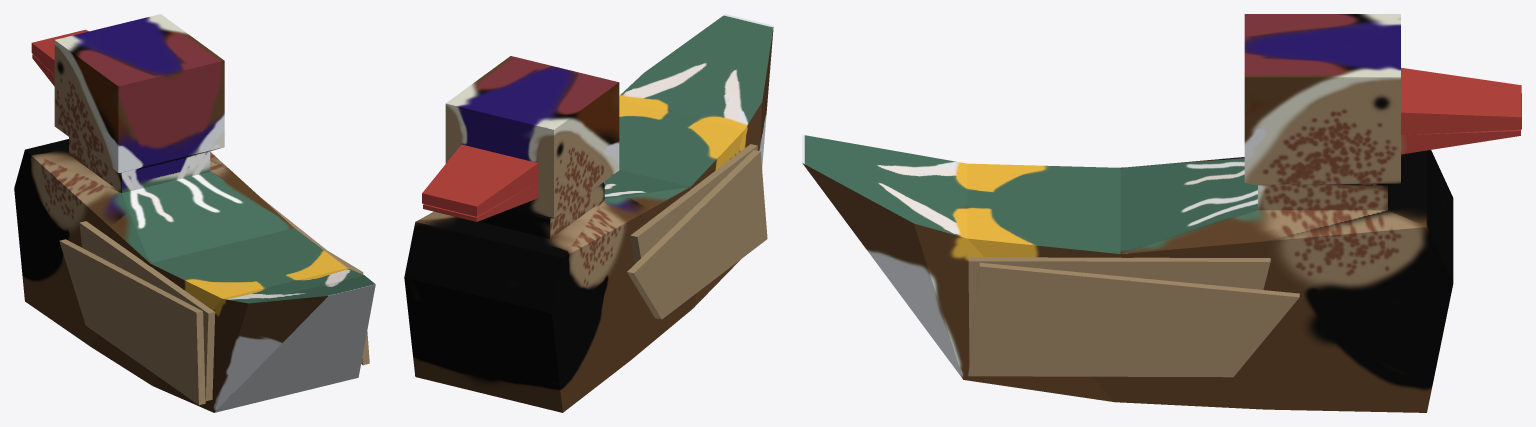
File: duck.glb
3 renders of one model, left to right at view 1: azimuth 30°, elevation 25°; view 2: azimuth 150°, elevation 25°; view 3: azimuth 270°, elevation 25°, orthographic. The views are drawn at different scales.
Parts seen in each view (by area): view 1: Duck, wing; view 2: Duck, wing; view 3: Duck, wing.
Part boxes in pixels (x1=…): Duck: x1=14, y1=14, x2=375, y2=412; wing: x1=59, y1=199, x2=369, y2=405; Duck: x1=404, y1=14, x2=773, y2=412; wing: x1=627, y1=144, x2=767, y2=319; Duck: x1=802, y1=14, x2=1521, y2=412; wing: x1=968, y1=167, x2=1299, y2=377.
Bounding box in the file's own units: 0.2502 × 0.3502 × 0.705.
2 materials, 2 textured.
